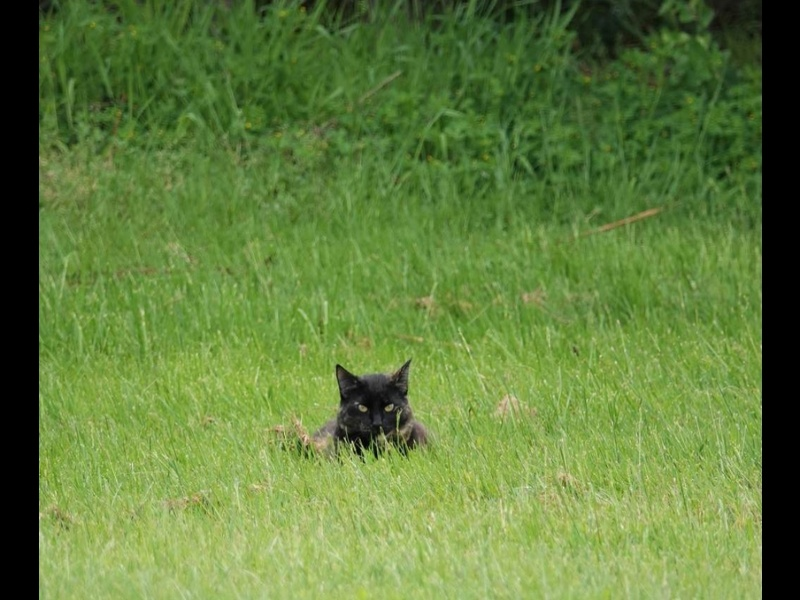cat: (275, 358, 437, 462)
